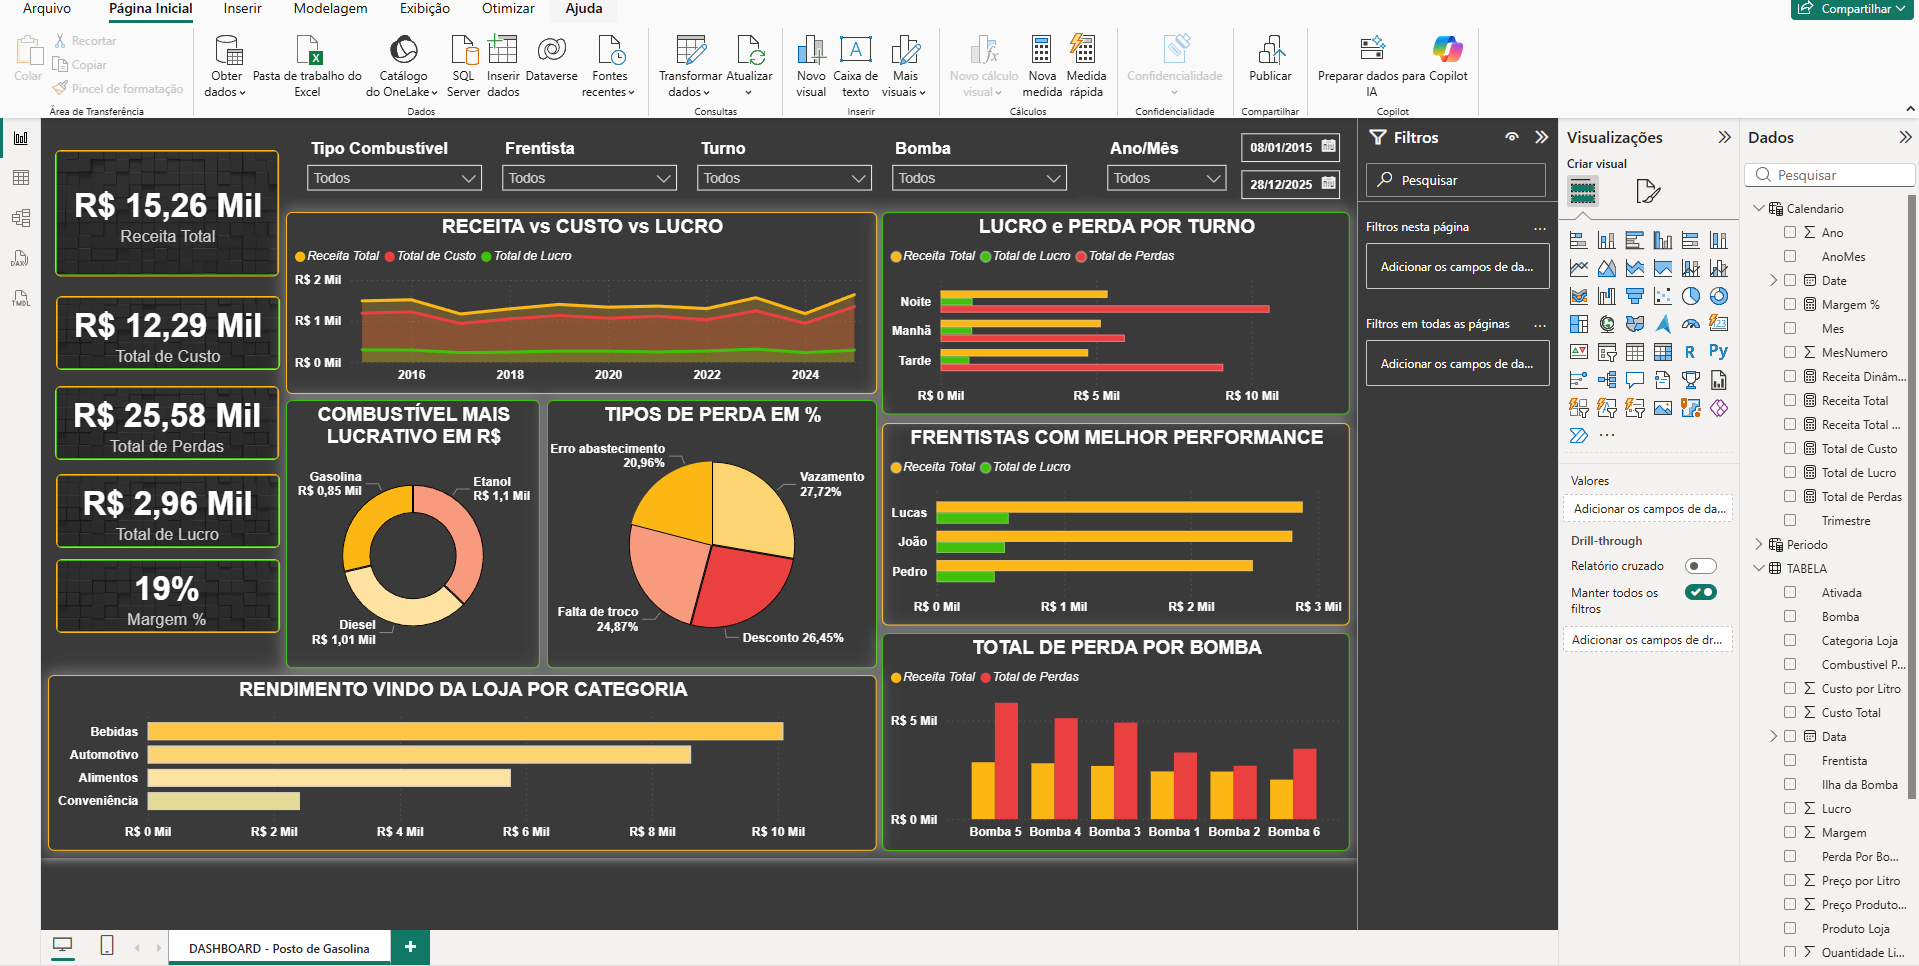

This screenshot's page, from the dashboard's own definition file:
{"tool":"powerbi","page":{"name":"DASHBOARD - Posto de Gasolina","canvas":[1280,720],"ordinal":0},"visuals":[{"type":"image","box":[13.6,31.1,217.9,122.6],"z":0},{"type":"image","box":[14.6,173.1,217.9,72],"z":1000},{"type":"image","box":[13.6,260.7,217.9,72],"z":2000},{"type":"image","box":[14.6,346.3,217.9,72],"z":3000},{"type":"image","box":[14.6,428.9,217.9,72],"z":4000},{"type":"card","fields":{"Values":["Calendario.Total de Custo"]},"box":[14.6,173.1,217.9,72],"z":5000},{"type":"card","fields":{"Values":["Calendario.Total de Perdas"]},"box":[13.6,260.7,217.9,72],"z":6000},{"type":"card","fields":{"Values":["Calendario.Total de Lucro"]},"box":[13.6,346.3,218.8,72],"z":7000},{"type":"card","fields":{"Values":["Calendario.Margem %"]},"box":[13.6,428.9,217.9,72],"z":8000},{"type":"card","fields":{"Values":["Calendario.Receita Total"]},"box":[14.6,31.1,217.9,122.6],"z":9000},{"type":"lineChart","title":"RECEITA vs CUSTO vs LUCRO","fields":{"Category":["TABELA.Data.Variation.Hierarquia de datas.Ano","TABELA.Data.Variation.Hierarquia de datas.Trimestre","TABELA.Data.Variation.Hierarquia de datas.Mês","TABELA.Data.Variation.Hierarquia de datas.Dia"],"Y":["Calendario.Receita Total","Calendario.Total de Custo","Calendario.Total de Lucro"]},"box":[238.3,91.4,574.8,177],"z":10000},{"type":"donutChart","title":"COMBUSTÍVEL MAIS LUCRATIVO EM R$","fields":{"Category":["TABELA.Tipo Combustível"],"Y":["Calendario.Total de Lucro"]},"box":[238.3,274.3,247.1,260.7],"z":11000},{"type":"clusteredBarChart","title":"FRENTISTAS COM MELHOR PERFORMANCE","fields":{"Category":["TABELA.Frentista"],"Y":["Calendario.Receita Total","Calendario.Total de Lucro"]},"box":[818,296.7,455.2,197.4],"z":12000},{"type":"clusteredBarChart","title":"LUCRO e PERDA POR TURNO","fields":{"Category":["TABELA.Turno"],"Y":["Calendario.Receita Total","Calendario.Total de Lucro","Calendario.Total de Perdas"]},"box":[818,91.4,455.2,197.4],"z":13000},{"type":"pieChart","title":"TIPOS DE PERDA EM %","fields":{"Category":["TABELA.Tipo Perda"],"Y":["Calendario.Total de Perdas"]},"box":[492.2,274.3,321,260.7],"z":14000},{"type":"clusteredColumnChart","title":"TOTAL DE PERDA POR BOMBA","fields":{"Category":["TABELA.Bomba"],"Y":["Calendario.Receita Total","Calendario.Total de Perdas"]},"box":[818,500.9,455.2,212],"z":15000},{"type":"clusteredBarChart","title":"RENDIMENTO VINDO DA LOJA POR CATEGORIA","fields":{"Category":["TABELA.Categoria Loja"],"Y":["Calendario.Receita Total Geral"]},"box":[6.8,541.8,806.3,171.2],"z":16000},{"type":"slicer","fields":{"Values":["TABELA.Data"]},"box":[1154.5,4.9,118.7,82.7],"z":17000},{"type":"slicer","fields":{"Values":["TABELA.Tipo Combustível"]},"box":[249,15.6,189.7,62.2],"z":18000},{"type":"slicer","fields":{"Values":["TABELA.Frentista"]},"box":[438.7,15.6,189.7,62.2],"z":19000},{"type":"slicer","fields":{"Values":["TABELA.Turno"]},"box":[628.3,15.6,189.7,62.2],"z":20000},{"type":"slicer","fields":{"Values":["TABELA.Bomba"]},"box":[818,15.6,189.7,62.2],"z":21000},{"type":"slicer","fields":{"Values":["TABELA.Data.Variation.Hierarquia de datas.Ano","TABELA.Data.Variation.Hierarquia de datas.Mês"]},"box":[1027.1,15.6,136.2,62.2],"z":22000}]}

Visuals, with their boxes on the page's 1280x720 design canvas (x1, y1, x2, y2). These are canvas units, not pixel positions in the 1919x966 screenshot, which may show the page scaled, cropped or inside an application window:
image: 14:31:232:154
image: 15:173:232:245
image: 14:261:232:333
image: 15:346:232:418
image: 15:429:232:501
card - Calendario.Total de Custo: 15:173:232:245
card - Calendario.Total de Perdas: 14:261:232:333
card - Calendario.Total de Lucro: 14:346:232:418
card - Calendario.Margem %: 14:429:232:501
card - Calendario.Receita Total: 15:31:232:154
"RECEITA vs CUSTO vs LUCRO" lineChart: 238:91:813:268
"COMBUSTÍVEL MAIS LUCRATIVO EM R$" donutChart: 238:274:485:535
"FRENTISTAS COM MELHOR PERFORMANCE" clusteredBarChart: 818:297:1273:494
"LUCRO e PERDA POR TURNO" clusteredBarChart: 818:91:1273:289
"TIPOS DE PERDA EM %" pieChart: 492:274:813:535
"TOTAL DE PERDA POR BOMBA" clusteredColumnChart: 818:501:1273:713
"RENDIMENTO VINDO DA LOJA POR CATEGORIA" clusteredBarChart: 7:542:813:713
slicer - TABELA.Data: 1154:5:1273:88
slicer - TABELA.Tipo Combustível: 249:16:439:78
slicer - TABELA.Frentista: 439:16:628:78
slicer - TABELA.Turno: 628:16:818:78
slicer - TABELA.Bomba: 818:16:1008:78
slicer - TABELA.Data.Variation.Hierarquia de datas.Ano x TABELA.Data.Variation.Hierarquia de datas.Mês: 1027:16:1163:78
